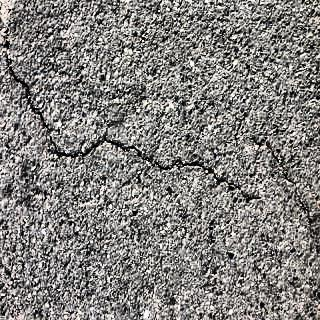crack: (3, 12, 256, 198), (258, 138, 312, 218)
